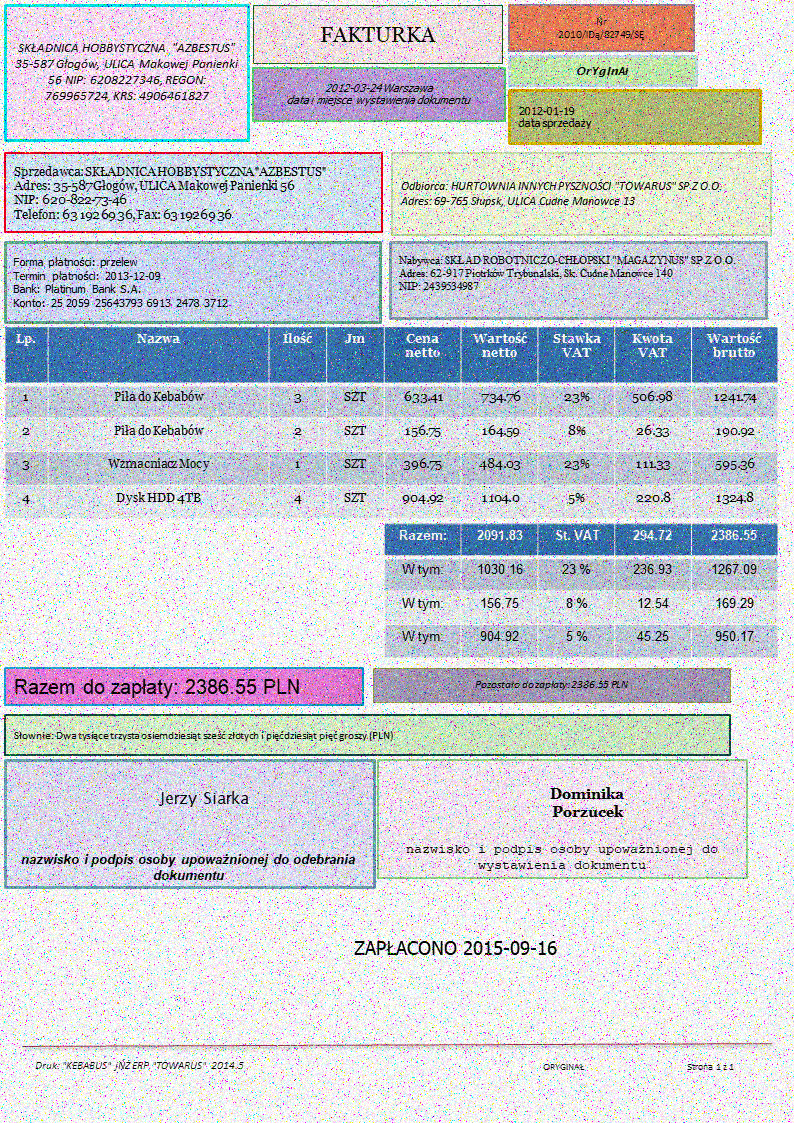Table: (3, 324, 780, 520), (382, 520, 779, 660)
TextBox: (10, 160, 331, 226), (11, 38, 242, 105), (395, 250, 738, 294), (10, 252, 232, 313), (19, 851, 359, 883), (402, 839, 722, 873), (398, 177, 724, 210), (11, 727, 397, 745), (12, 674, 301, 698), (283, 79, 474, 109), (351, 936, 562, 958), (33, 1056, 248, 1074), (546, 782, 629, 823), (539, 1058, 738, 1075), (317, 22, 436, 46), (554, 13, 647, 43), (472, 676, 631, 693), (153, 786, 253, 811), (516, 101, 593, 132), (573, 60, 631, 80)
